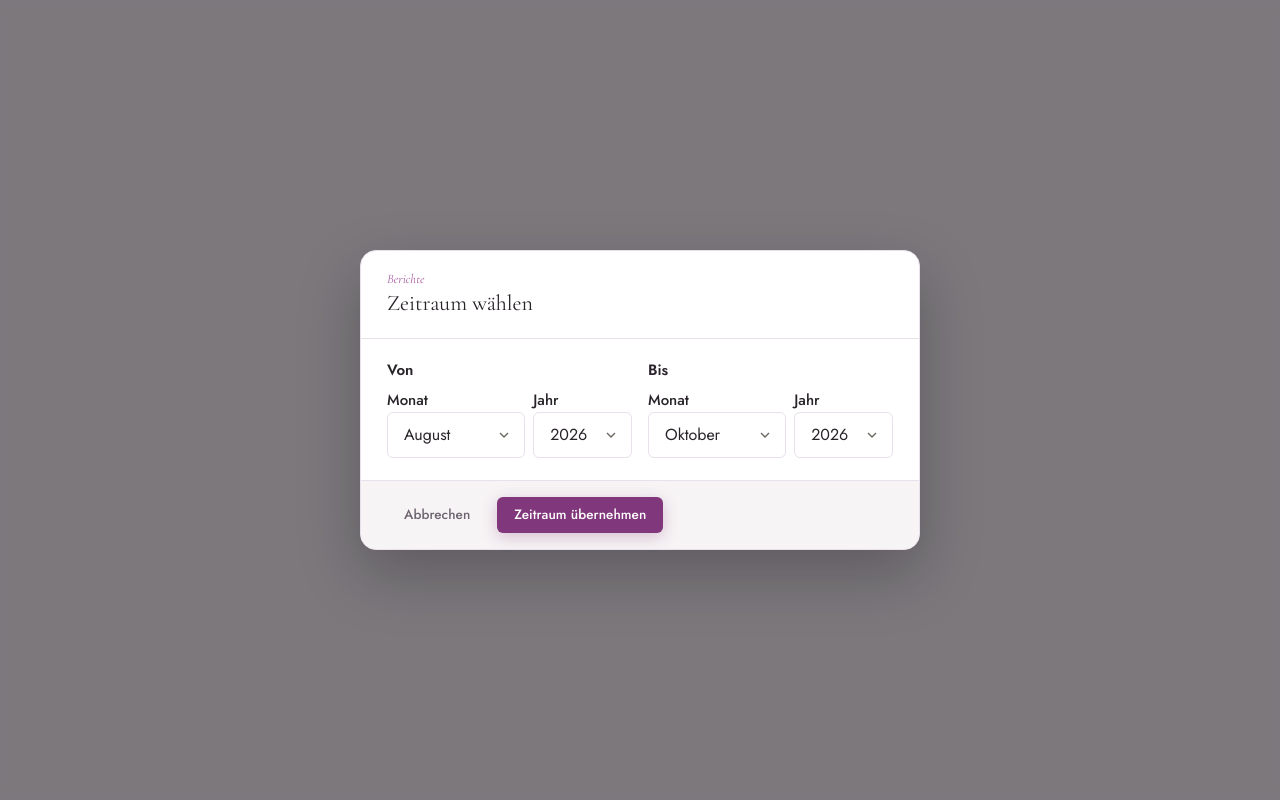
Test: PeriodRangeDialog — validation › clears the error again when the choice is fixed
The image size is (1280, 800).
expect the dropdown labelled "Monat" below "Von" shows "August": met, box [387,412,525,458]
Select "Mai" in the dropdown labelled "Monat" below "Bis": (717, 435) [648,412,786,458]
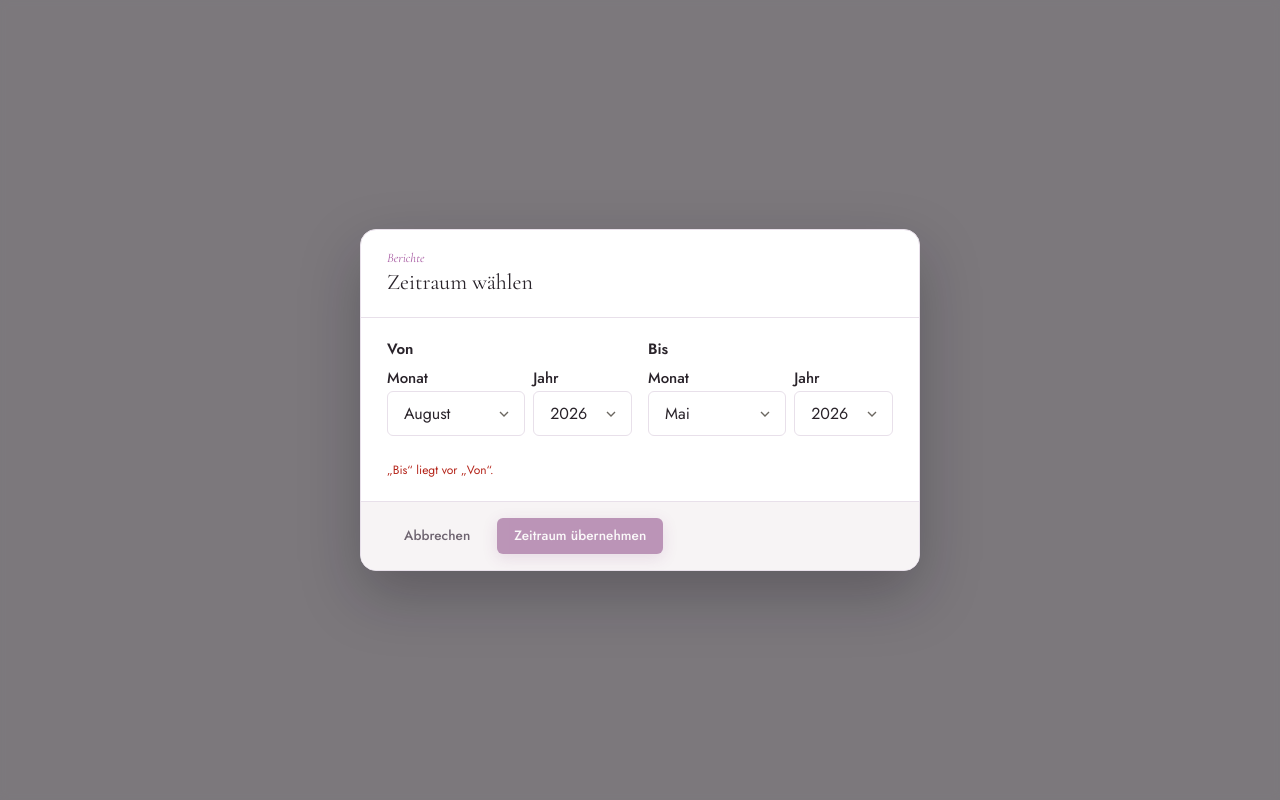
expect the message "„Bis“ liegt vor „Von“." is shown: met, box [387,462,494,480]
Select "September" in the 2nd dropdown labelled "Monat": (717, 414) [648,391,786,436]
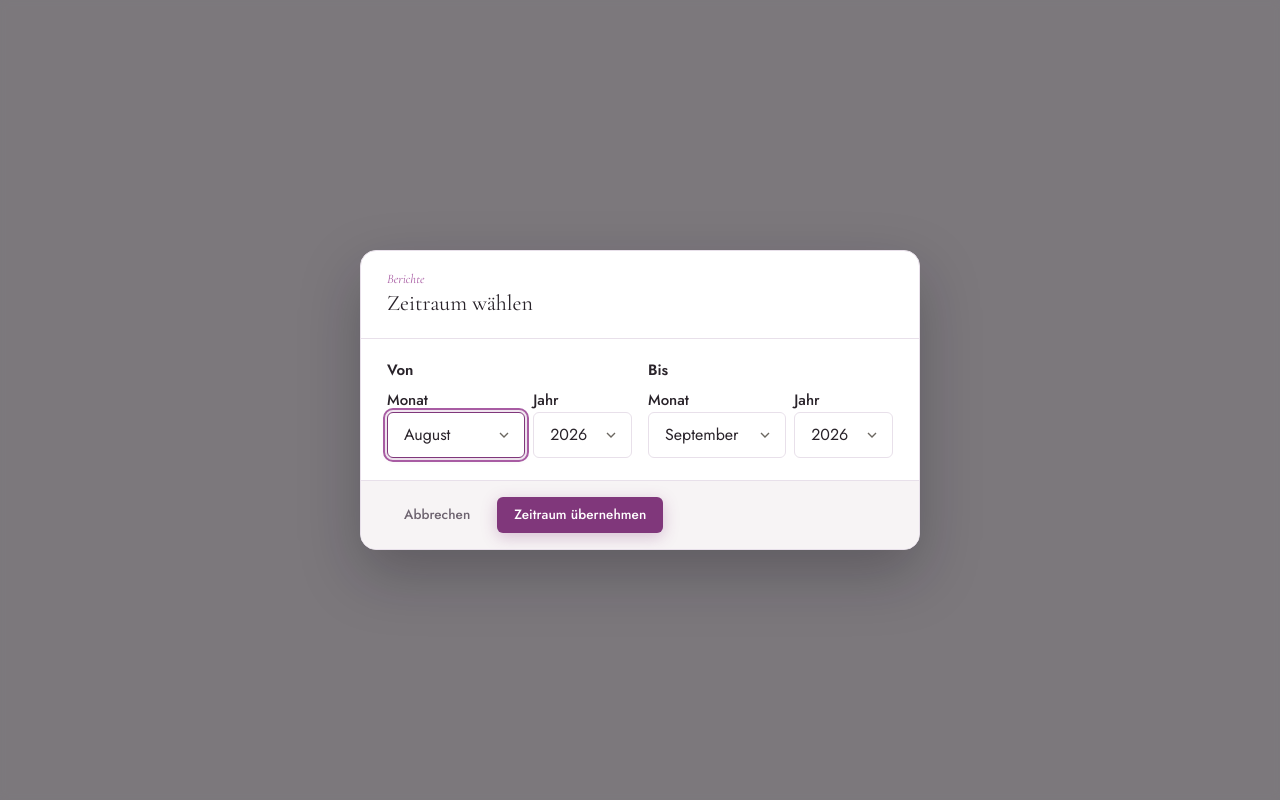
expect the message "„Bis“ liegt vor „Von“." is gone: met
